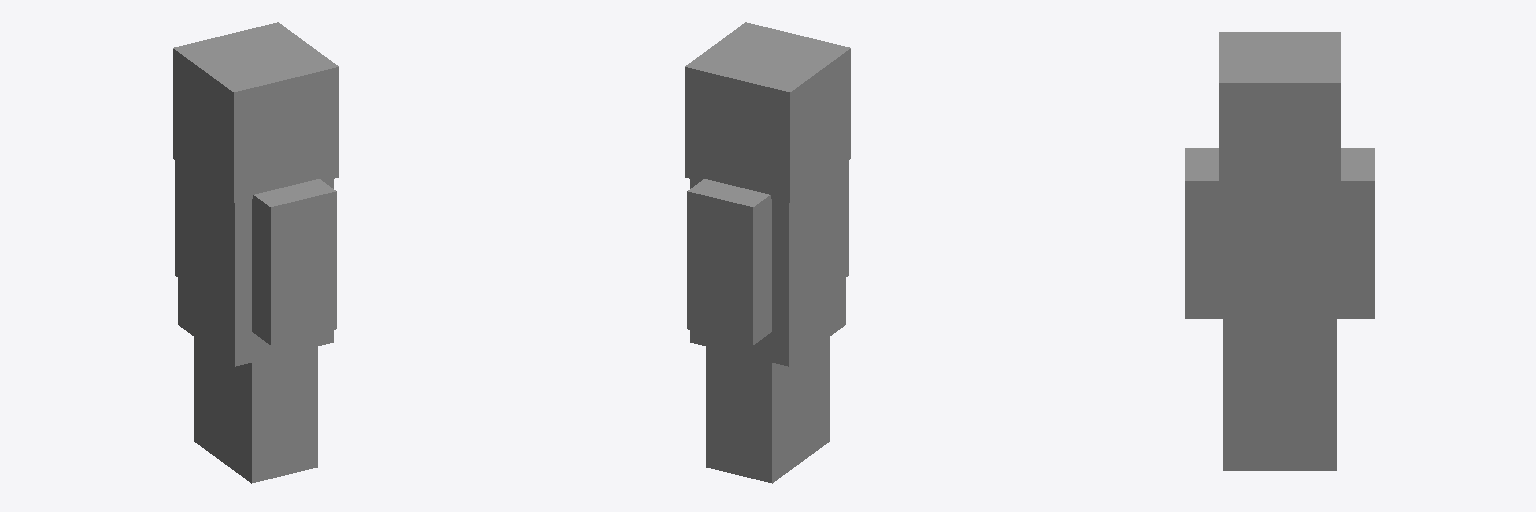
The model's file is player.obj.
3 renders of one model, left to right at view 1: azimuth 30°, elevation 25°; view 2: azimuth 150°, elevation 25°; view 3: azimuth 270°, elevation 25°, orthographic.
Parts seen in each view (by area): view 1: Cube.003; view 2: Cube.003; view 3: Cube.003.
Boxes of the visible parts, box(x1,y1,x2,y2) form: Cube.003: box(173, 22, 338, 483); Cube.003: box(685, 22, 850, 483); Cube.003: box(1185, 32, 1374, 470).
Size of the model in its own units: 1.6 by 5.75 by 2.5.